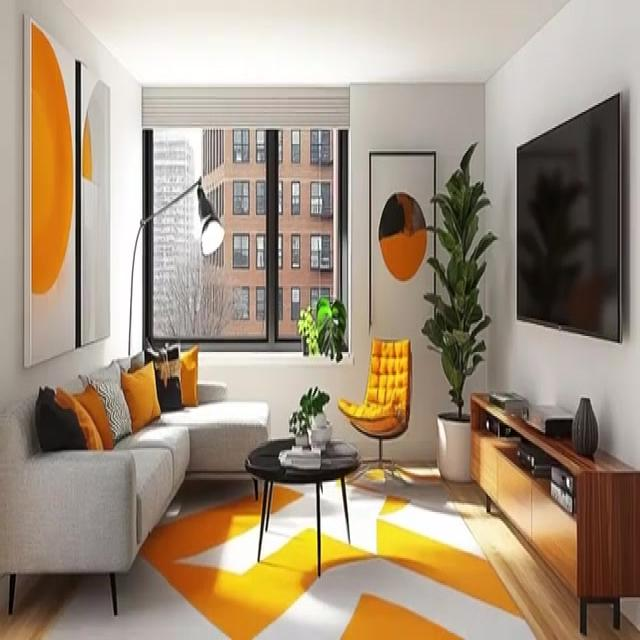obstacle: (0, 347, 270, 615), (469, 391, 639, 635), (244, 436, 360, 578), (337, 336, 412, 482)
